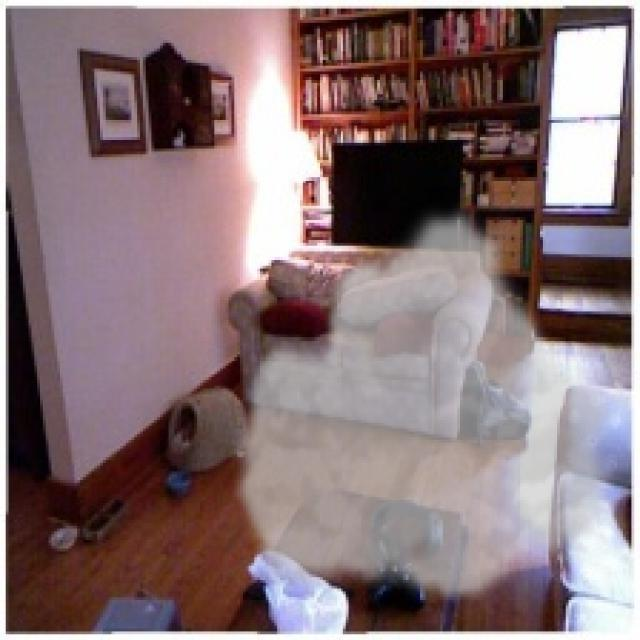Smoke: (228, 203, 623, 606)
